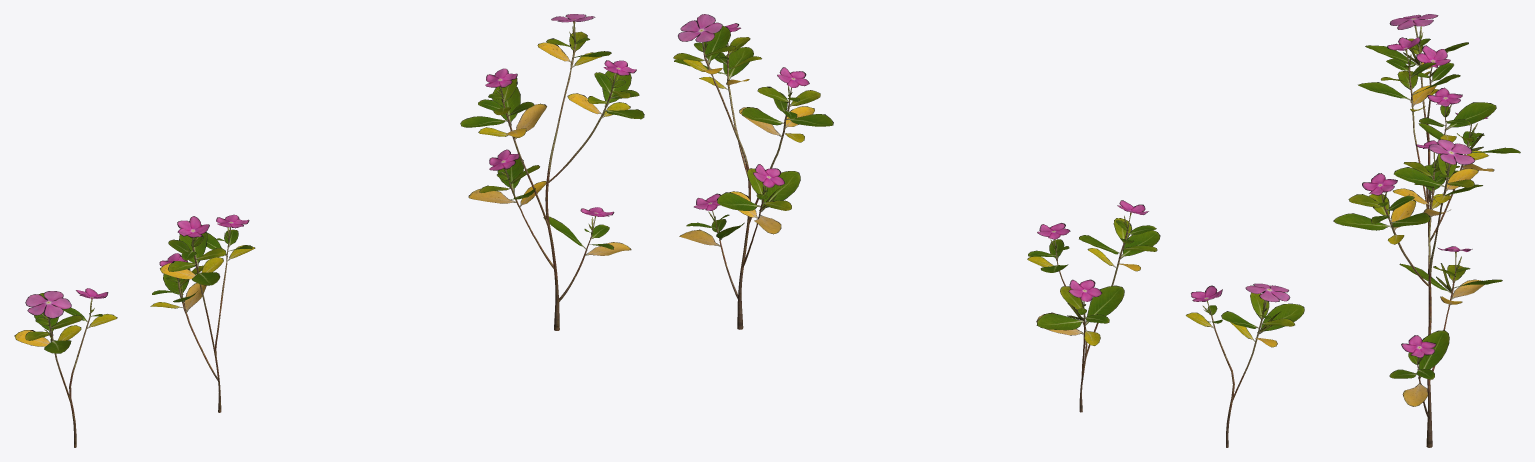
File: periwinkle.glb
3 views of the same model, side by side, from view 1: azimuth 30°, elevation 25°; view 2: azimuth 150°, elevation 25°; view 3: azimuth 270°, elevation 25° (orthographic). The views are drawn at different scales.
Parts seen in each view (by area): view 1: periwinkle_plant_03_LOD0, periwinkle_plant_05_LOD0, periwinkle_plant_06_LOD0; view 2: periwinkle_plant_03_LOD0, periwinkle_plant_05_LOD0, periwinkle_plant_06_LOD0; view 3: periwinkle_plant_03_LOD0, periwinkle_plant_05_LOD0, periwinkle_plant_06_LOD0.
Part boxes in pixels (<box>): periwinkle_plant_03_LOD0: <box>460,14,644,330</box>; periwinkle_plant_05_LOD0: <box>150,214,255,412</box>; periwinkle_plant_06_LOD0: <box>14,288,117,447</box>; periwinkle_plant_03_LOD0: <box>673,14,833,329</box>; periwinkle_plant_05_LOD0: <box>1027,200,1160,412</box>; periwinkle_plant_06_LOD0: <box>1186,283,1304,447</box>; periwinkle_plant_03_LOD0: <box>1333,139,1502,447</box>; periwinkle_plant_05_LOD0: <box>1358,37,1520,274</box>; periwinkle_plant_06_LOD0: <box>1365,14,1468,202</box>.
Size of the model in its own units: 0.6303 by 0.3002 by 0.162.
Materials: 1 (1 with a texture image).
